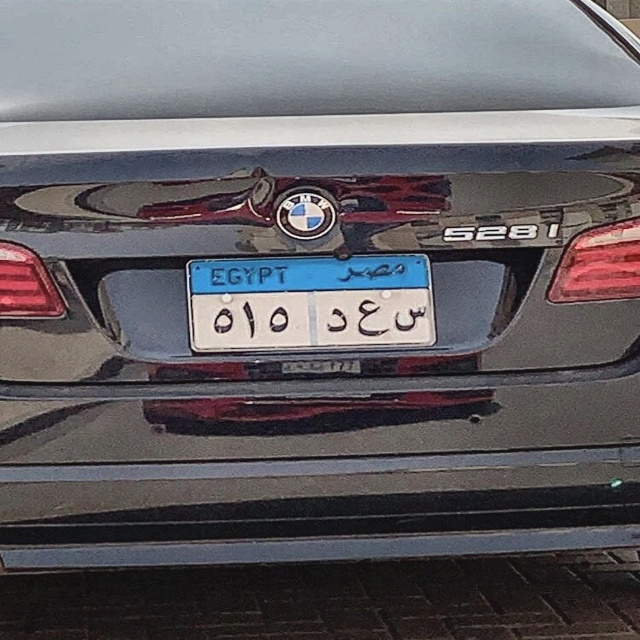License Plate: (182, 251, 439, 355)
